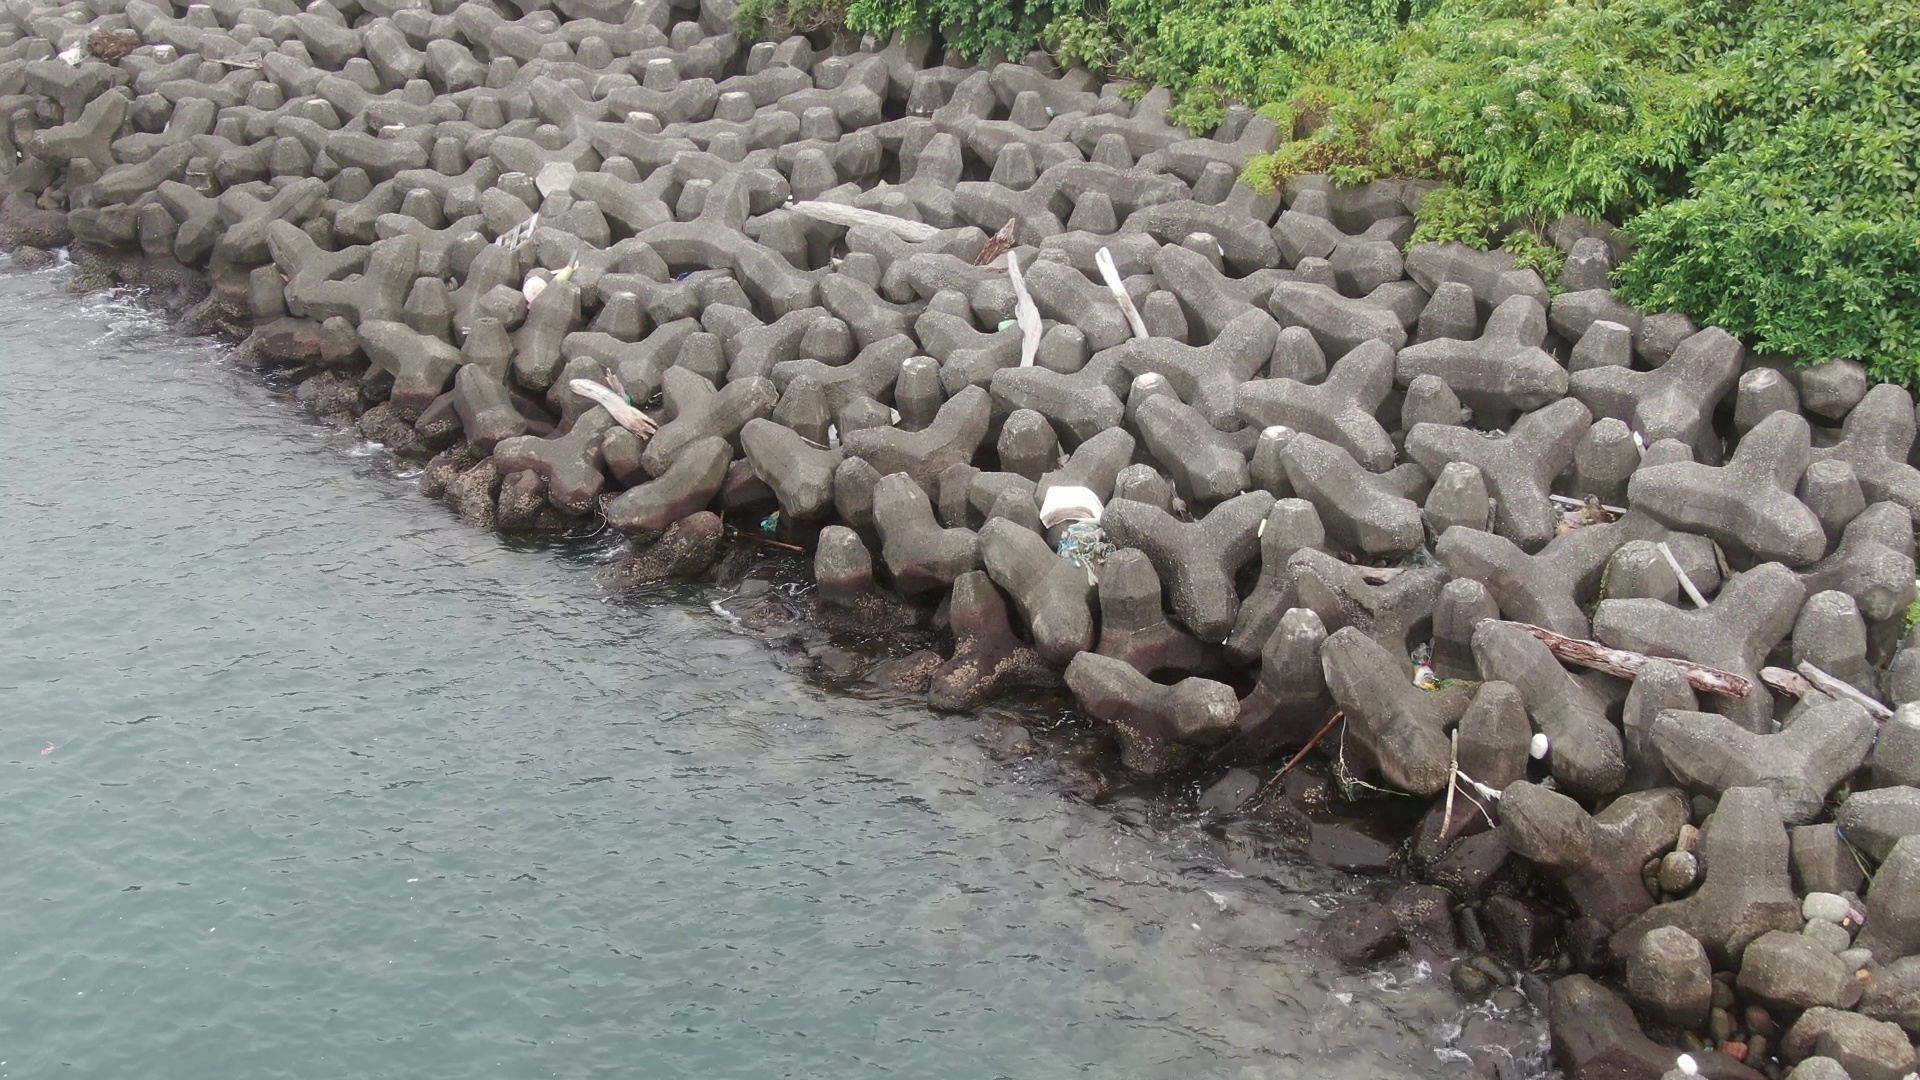garbage: (1036, 476, 1125, 593), (487, 215, 591, 305), (1403, 640, 1461, 704), (1716, 1029, 1750, 1067), (1675, 1048, 1710, 1080), (1524, 727, 1549, 764)
